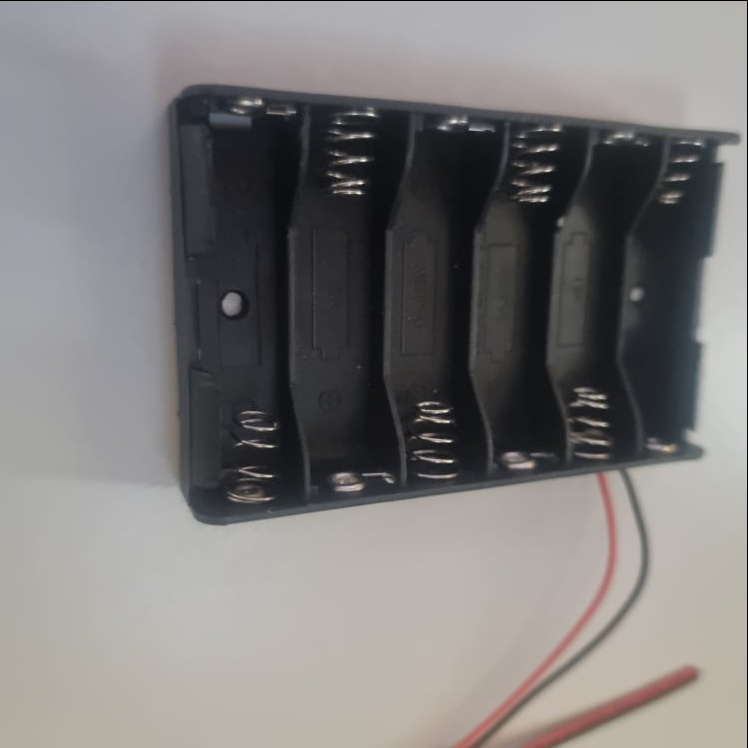BATTERY BOX: (169, 83, 742, 534)
